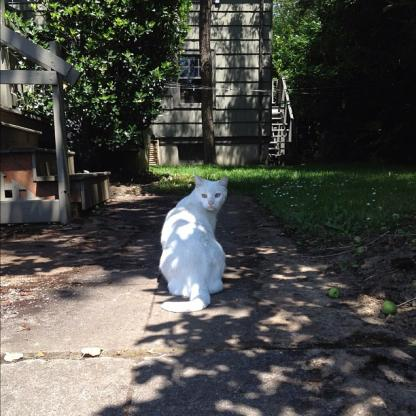Target: (157, 171, 233, 315)
